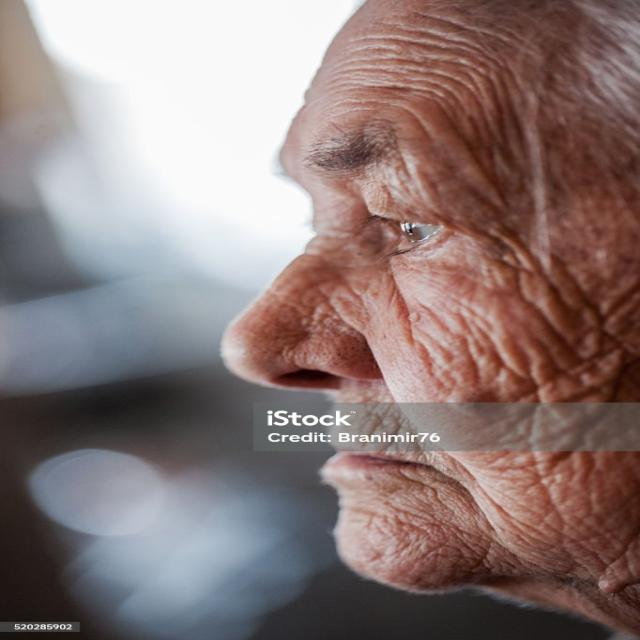dry: (498, 210, 640, 570), (326, 15, 554, 129), (286, 268, 480, 380), (326, 484, 500, 580)
